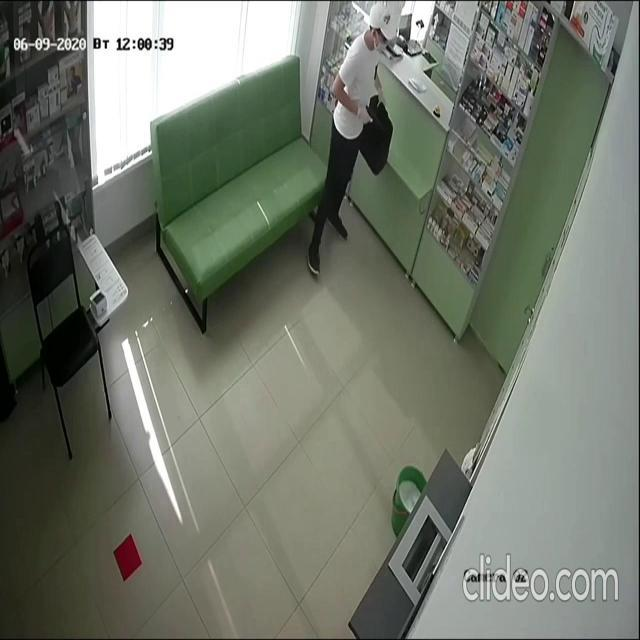pistol: (362, 97, 384, 136)
